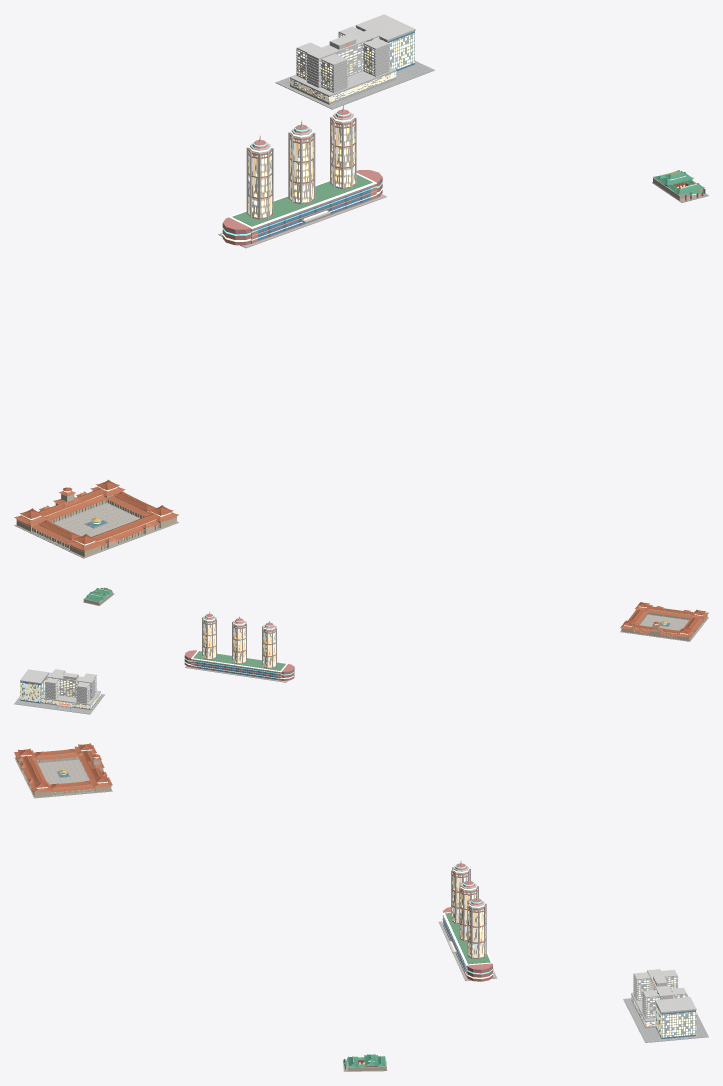
The model's file is cholon_heritage_cluster.glb.
3 renders of one model, top to bottom at view 1: azimuth 30°, elevation 25°; view 2: azimuth 150°, elevation 25°; view 3: azimuth 270°, elevation 25°, orthographic. The views are drawn at different scales.
Parts seen in each view (by area): view 1: LM_R2_02D_THE_GARDEN_MALL, LM_R2_02C_BV_CHO_RAY, LM_R2_02A_CHO_BINH_TAY, LM_R2_02B_CHUA_BA_THIEN_HAU; view 2: LM_R2_02D_THE_GARDEN_MALL, LM_R2_02C_BV_CHO_RAY, LM_R2_02A_CHO_BINH_TAY, LM_R2_02B_CHUA_BA_THIEN_HAU; view 3: LM_R2_02C_BV_CHO_RAY, LM_R2_02D_THE_GARDEN_MALL, LM_R2_02A_CHO_BINH_TAY, LM_R2_02B_CHUA_BA_THIEN_HAU.
Boxes of the visible parts, bbox=[...] form: LM_R2_02D_THE_GARDEN_MALL: bbox=[218, 105, 386, 248]; LM_R2_02C_BV_CHO_RAY: bbox=[275, 14, 434, 109]; LM_R2_02A_CHO_BINH_TAY: bbox=[14, 479, 178, 558]; LM_R2_02B_CHUA_BA_THIEN_HAU: bbox=[652, 170, 708, 202]; LM_R2_02D_THE_GARDEN_MALL: bbox=[184, 611, 294, 682]; LM_R2_02C_BV_CHO_RAY: bbox=[14, 669, 104, 714]; LM_R2_02A_CHO_BINH_TAY: bbox=[620, 602, 708, 641]; LM_R2_02B_CHUA_BA_THIEN_HAU: bbox=[83, 587, 114, 605]; LM_R2_02C_BV_CHO_RAY: bbox=[623, 969, 708, 1042]; LM_R2_02D_THE_GARDEN_MALL: bbox=[438, 860, 497, 981]; LM_R2_02A_CHO_BINH_TAY: bbox=[14, 743, 112, 798]; LM_R2_02B_CHUA_BA_THIEN_HAU: bbox=[343, 1054, 387, 1071].
Size of the model in its own units: 1119 by 118 by 1025.
2 materials, 2 textured.
